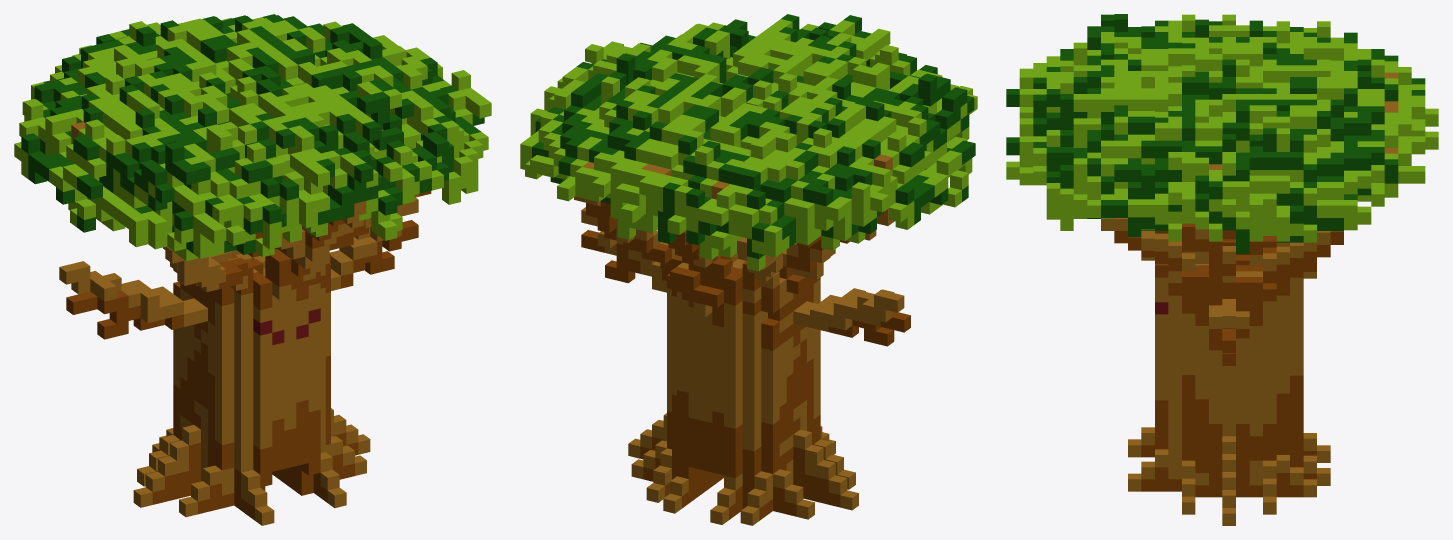
The model's file is Drago_Adriana_Sofia_Espitia_Contreras_fase_4.obj.
3 renders of one model, left to right at view 1: azimuth 30°, elevation 25°; view 2: azimuth 150°, elevation 25°; view 3: azimuth 270°, elevation 25°, orthographic. The views are drawn at different scales.
Parts seen in each view (by area): view 1: Drago_Adriana_Sofia_Espitia_Contreras_fase_4; view 2: Drago_Adriana_Sofia_Espitia_Contreras_fase_4; view 3: Drago_Adriana_Sofia_Espitia_Contreras_fase_4.
Boxes of the visible parts, box(x1,y1,x2,y2) form: Drago_Adriana_Sofia_Espitia_Contreras_fase_4: box(14, 14, 491, 525); Drago_Adriana_Sofia_Espitia_Contreras_fase_4: box(520, 14, 977, 525); Drago_Adriana_Sofia_Espitia_Contreras_fase_4: box(1006, 14, 1438, 525).
Bounding box in the file's own units: 32 × 32 × 32.
